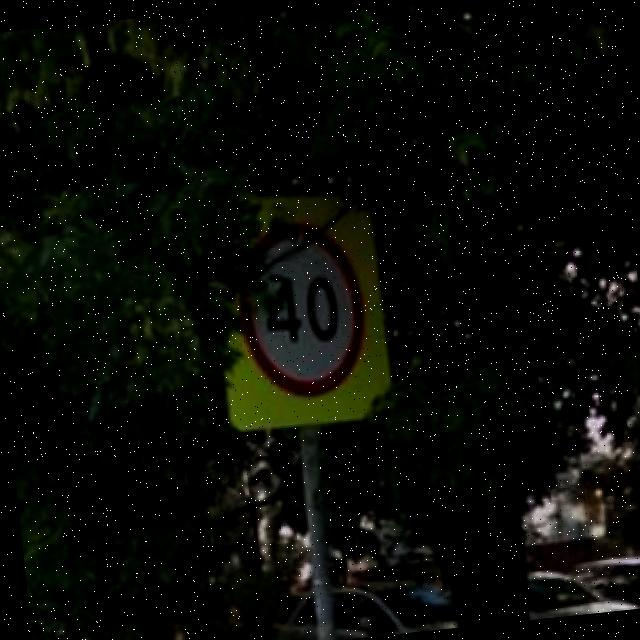Ograniczenie predkosci do 40: (230, 215, 374, 405)
